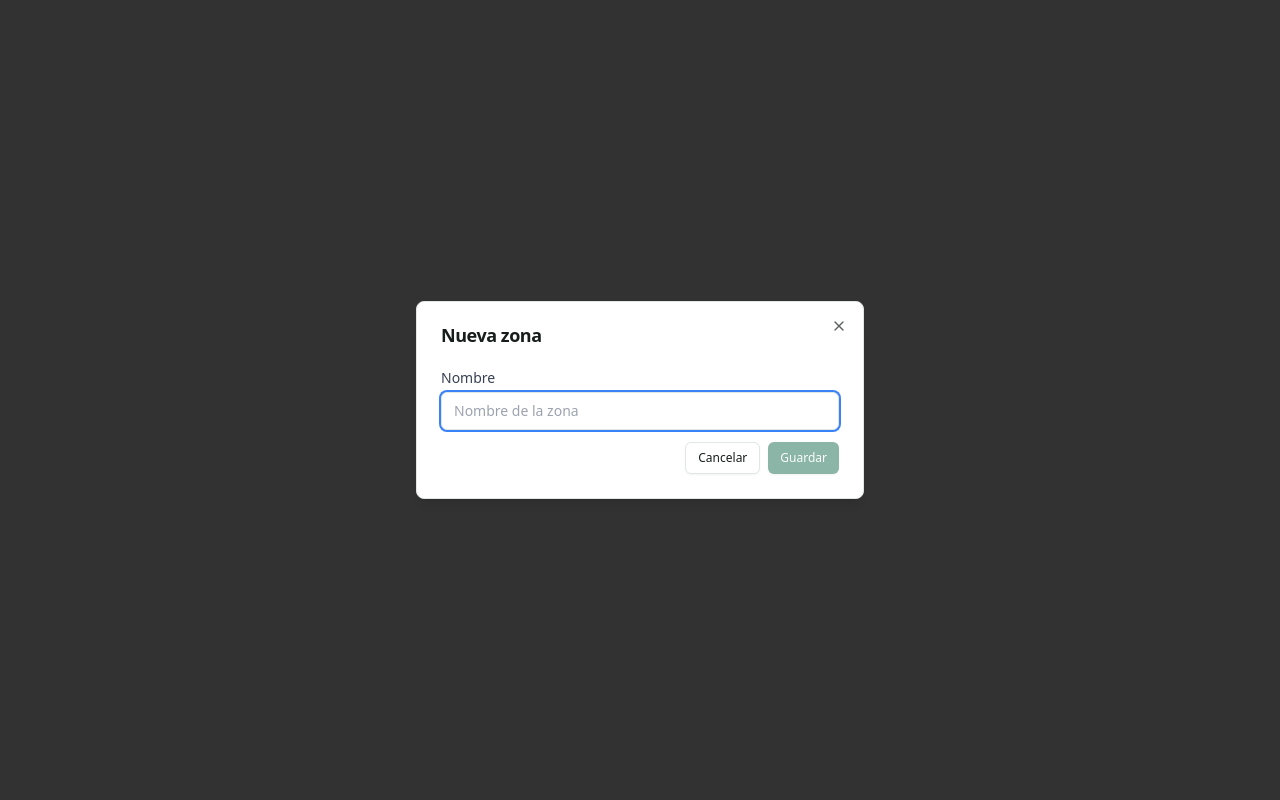
Test case: ZonaModal — edición › si onGuardar rechaza con algo que no es Error, usa el mensaje default
Type "NUEVA" into the field with placeholder "Nombre de la zona".
click(640, 411); type("NUEVA")  # box [441,392,839,430]
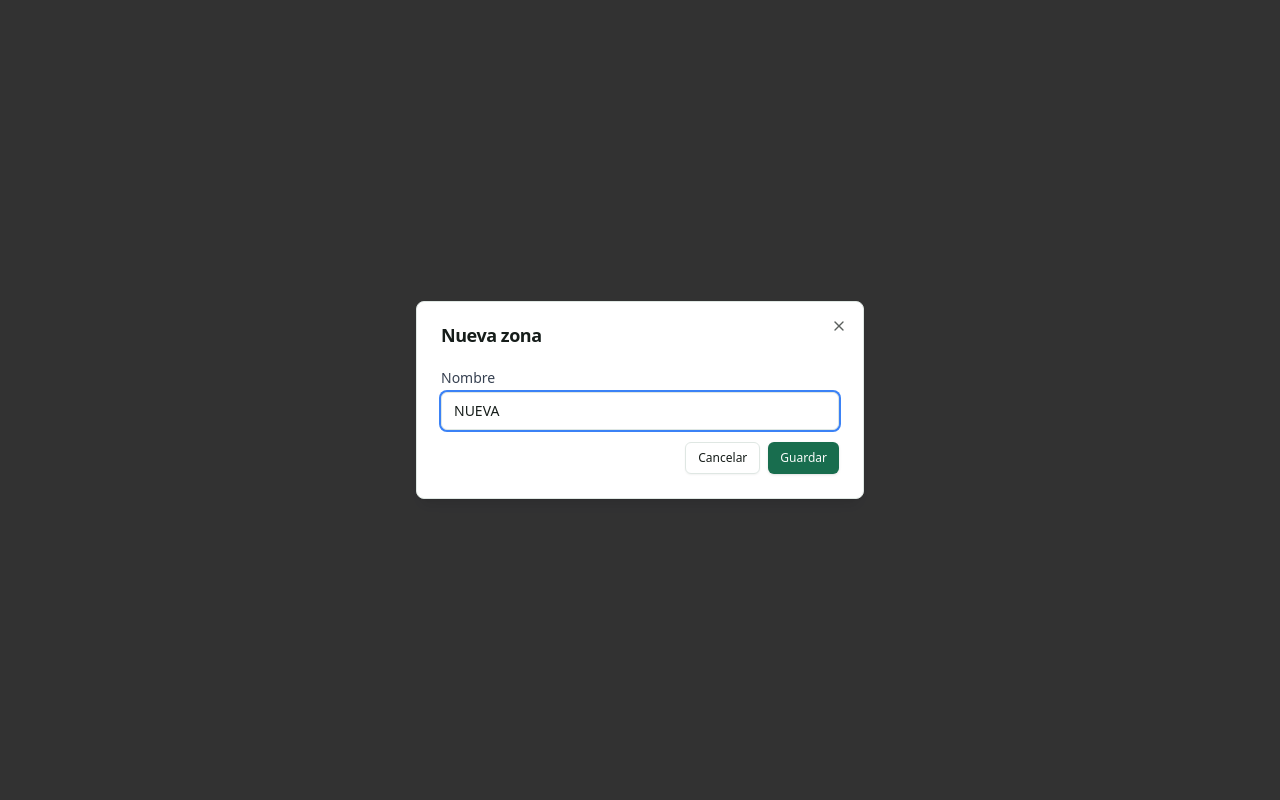
Click the button "Guardar".
click(804, 458)  # box [768,442,839,474]
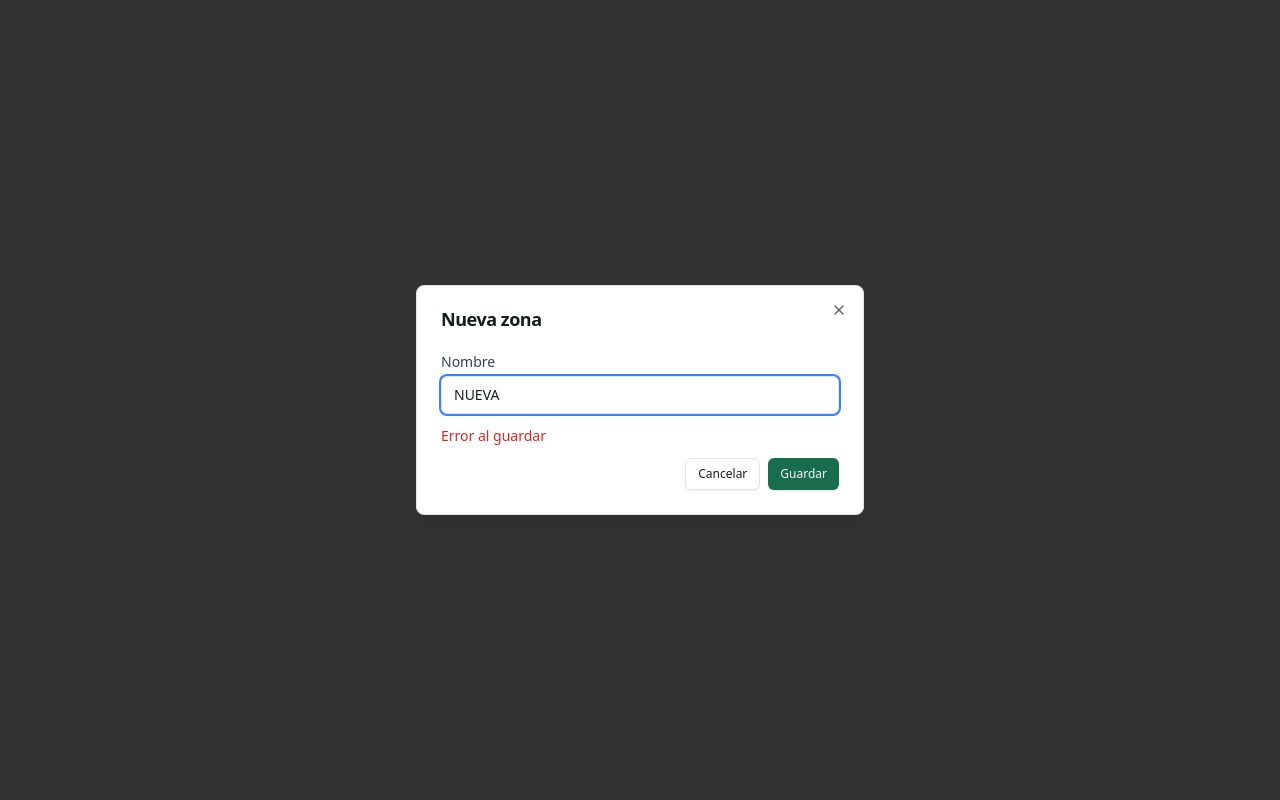
Expected: the text "Error al guardar" is shown, [441,426,546,445]
